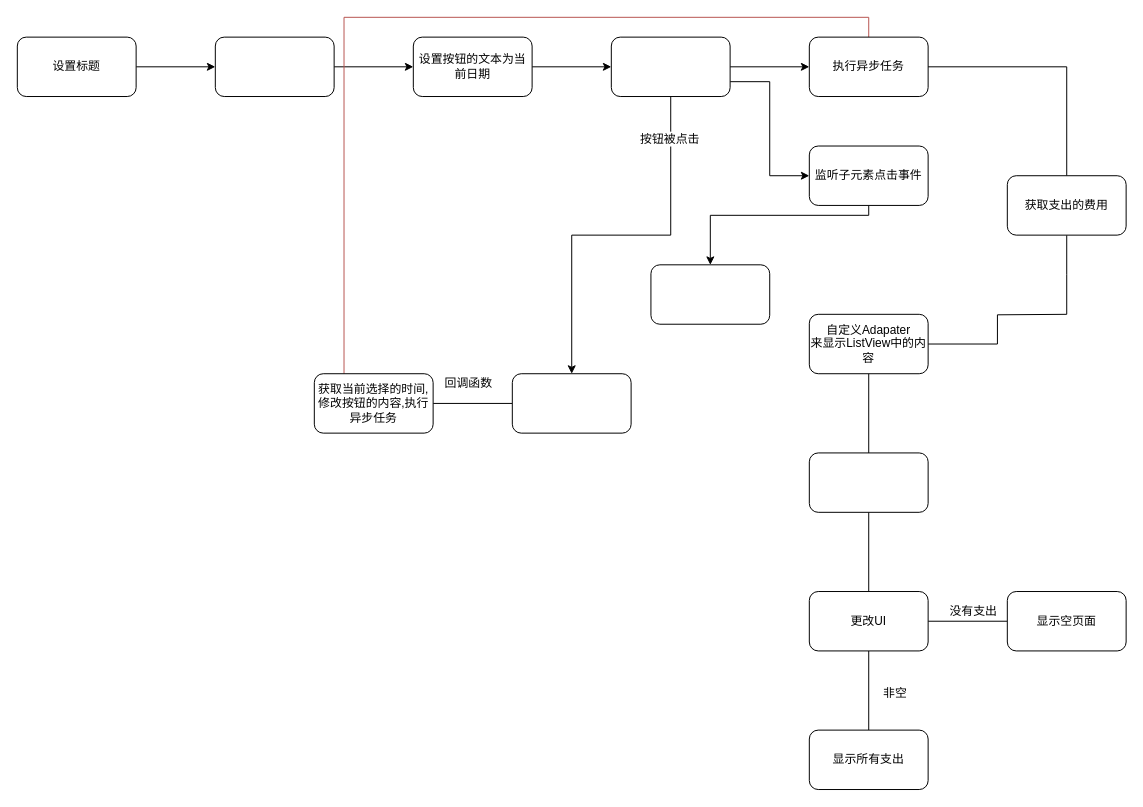
This 1143x807 diagram has some shape labels left out. The centre of each missing label's shape, as x and y in pixels:
修改左下方总支出的金额: the point at 868,482
加载显示分类: the point at 710,294
获取当前时间,设置回调函数,显示对话框: the point at 571,403
设置按钮的点击事件: the point at 670,66
隐藏右下方按钮: the point at 274,66
